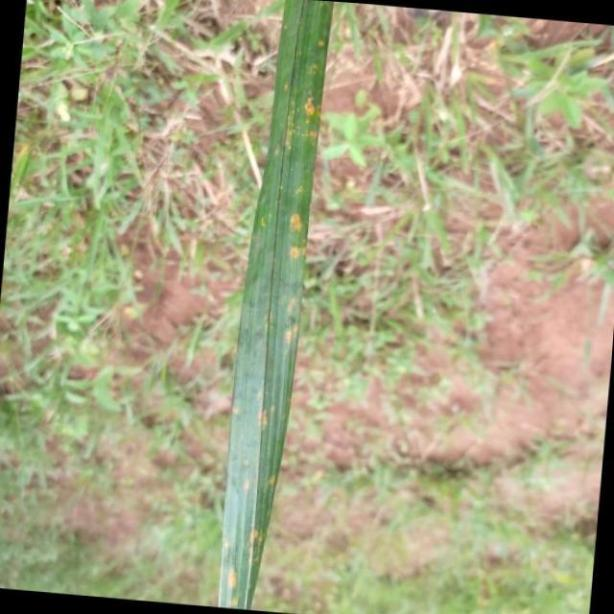Kalium: (219, 1, 332, 614)
